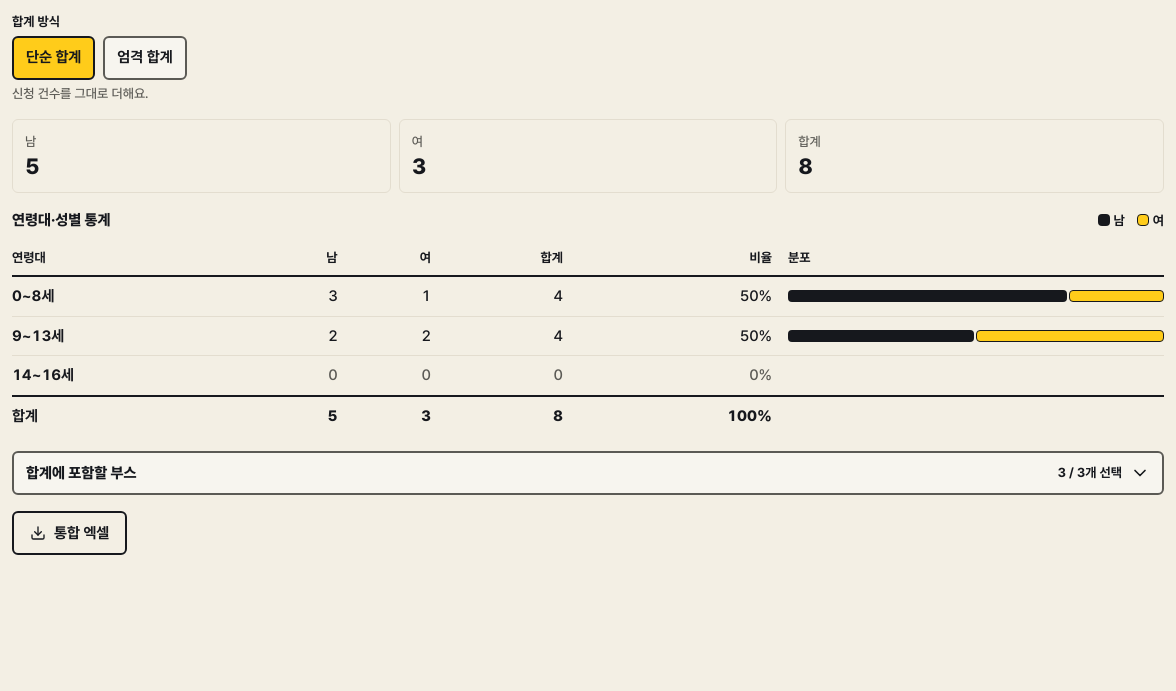
Test: StatsPanel 순서와 부스 선택 › 부스 이름 검색은 목록만 줄이고 선택은 유지한다
Step 1. Click the button "합계에 포함할 부스 3 / 3개 선택" → (81, 473), box x1=12 y1=451 x2=1164 y2=495
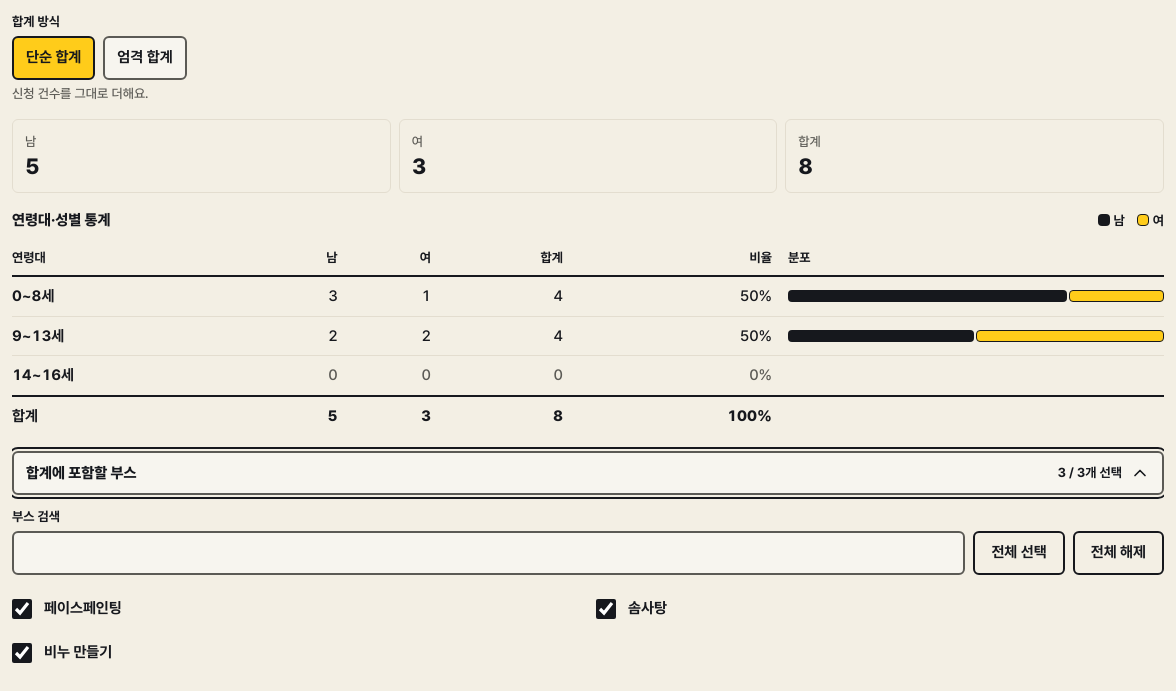
Step 2. Type "솜" into the search field labelled "부스 검색" → (489, 553), box x1=12 y1=531 x2=965 y2=575
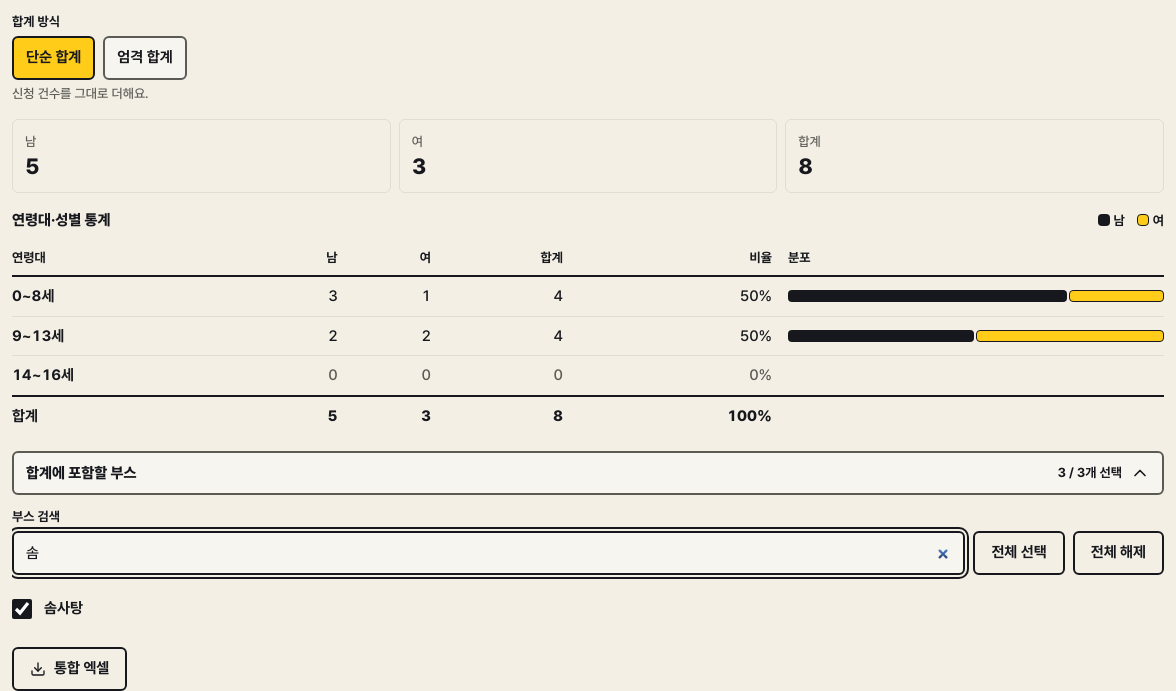
Check: the number of checkboxes is 1, box x1=12 y1=599 x2=32 y2=619
